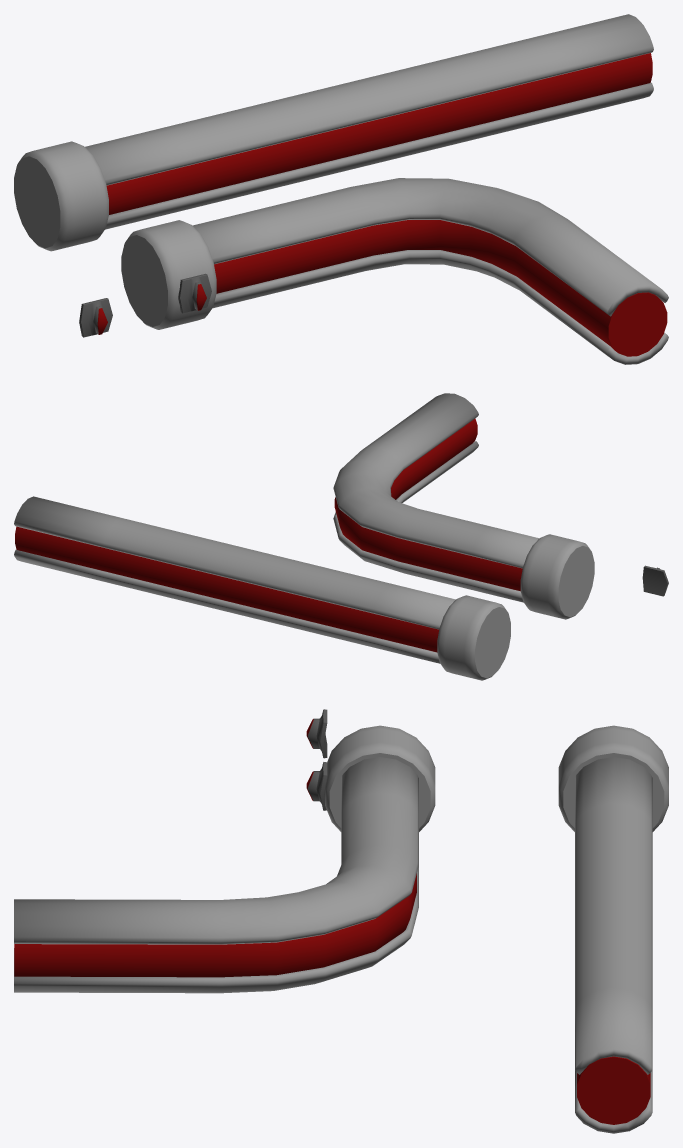
The model's file is pipes_and_ventils.FBX.
The picture shows the model from 3 angles, top to bottom: view 1: azimuth 30°, elevation 25°; view 2: azimuth 150°, elevation 25°; view 3: azimuth 270°, elevation 25°; orthographic projection. The views are drawn at different scales.
Parts seen in each view (by area): view 1: Cylinder006, Cylinder001, Cylinder003, Cylinder004, Object001, ventil, ventil_01; view 2: Cylinder006, Cylinder001, Cylinder003, Object001, Cylinder004, ventil; view 3: Cylinder006, Cylinder001, Cylinder004, Object001, Cylinder003, ventil, ventil_01.
Boxes of the visible parts, bbox=[...] form: Cylinder006: bbox=[192, 178, 668, 364]; Cylinder001: bbox=[85, 14, 653, 229]; Cylinder003: bbox=[106, 53, 652, 214]; Cylinder004: bbox=[14, 141, 108, 251]; Object001: bbox=[121, 220, 216, 329]; ventil: bbox=[79, 298, 112, 337]; ventil_01: bbox=[178, 273, 211, 313]; Cylinder006: bbox=[333, 393, 538, 602]; Cylinder001: bbox=[14, 496, 455, 663]; Cylinder003: bbox=[15, 526, 438, 652]; Object001: bbox=[520, 534, 594, 619]; Cylinder004: bbox=[437, 595, 510, 680]; ventil: bbox=[642, 565, 668, 596]; Cylinder006: bbox=[14, 757, 418, 993]; Cylinder001: bbox=[575, 757, 652, 1133]; Cylinder004: bbox=[558, 725, 668, 831]; Object001: bbox=[325, 725, 435, 831]; Cylinder003: bbox=[577, 1056, 650, 1124]; ventil: bbox=[306, 709, 327, 758]; ventil_01: bbox=[306, 762, 327, 810].
Size of the model in its own units: 71.56 by 9.26 by 54.1.
